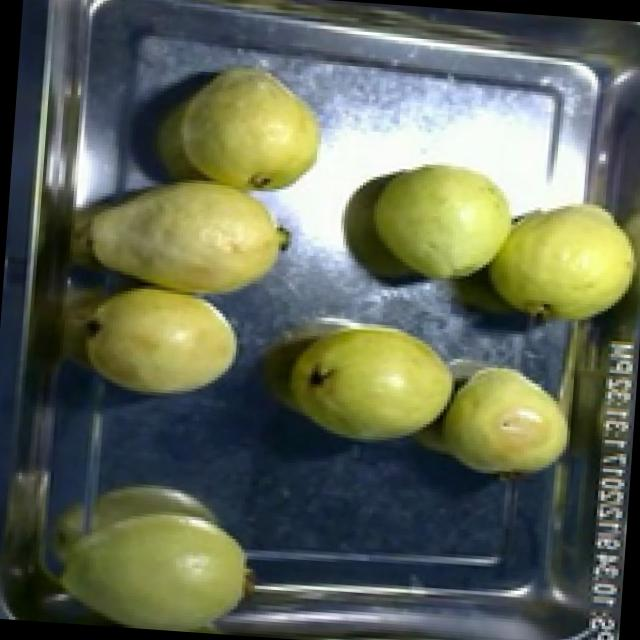Fruit: (29, 461, 268, 636), (75, 168, 310, 310), (270, 304, 468, 458), (143, 48, 338, 199), (348, 142, 528, 292), (464, 180, 640, 330), (74, 281, 248, 407), (428, 351, 580, 488)
